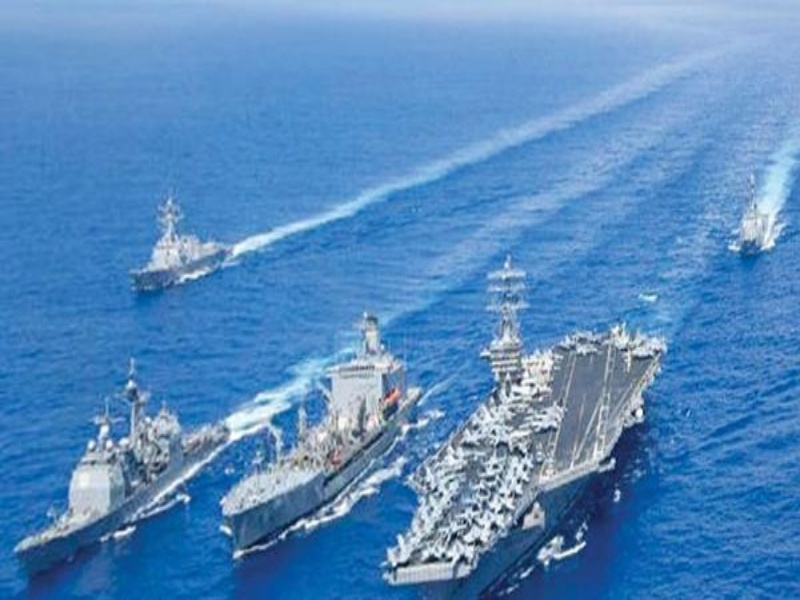carrier: (407, 275, 655, 587)
cruise: (216, 327, 409, 543), (16, 380, 224, 556), (133, 188, 230, 292), (722, 168, 784, 266)
